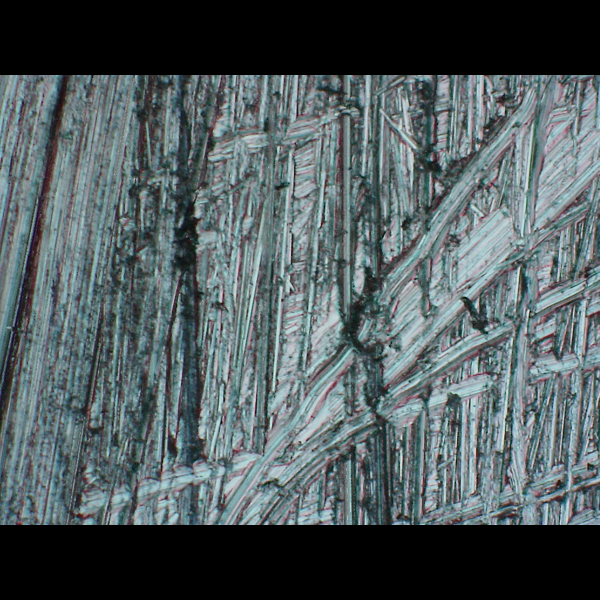d: (202, 97, 599, 524)
